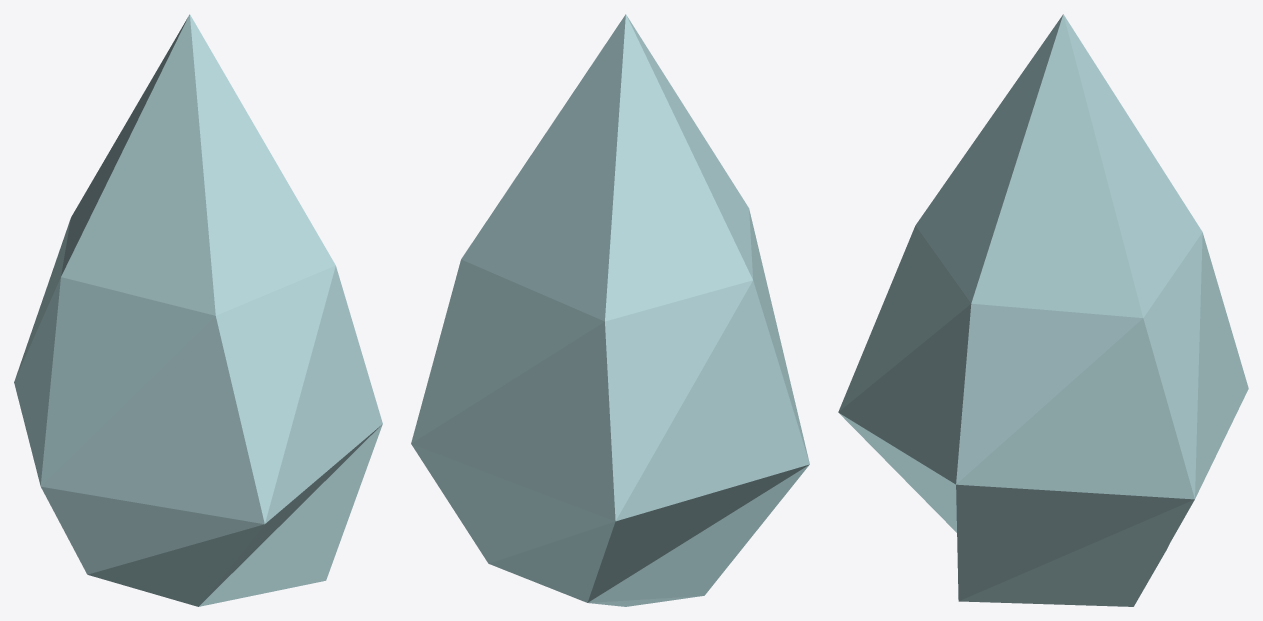
The model's file is lab_rift_fragment_c.glb.
3 views of the same model, side by side, from view 1: azimuth 30°, elevation 25°; view 2: azimuth 150°, elevation 25°; view 3: azimuth 270°, elevation 25° (orthographic).
Parts seen in each view (by area): view 1: lab_rift_fragment_c; view 2: lab_rift_fragment_c; view 3: lab_rift_fragment_c.
Part boxes in pixels (x1,y1,x2,y2): lab_rift_fragment_c: [14, 14, 382, 606]; lab_rift_fragment_c: [411, 14, 809, 606]; lab_rift_fragment_c: [838, 14, 1248, 606].
Bounding box in the file's own units: 0.3063 × 0.55 × 0.3483.
